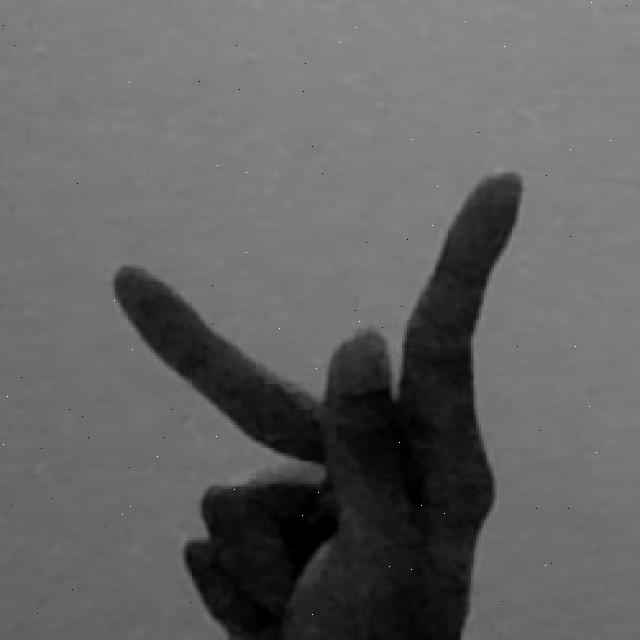K: (105, 168, 533, 640)
